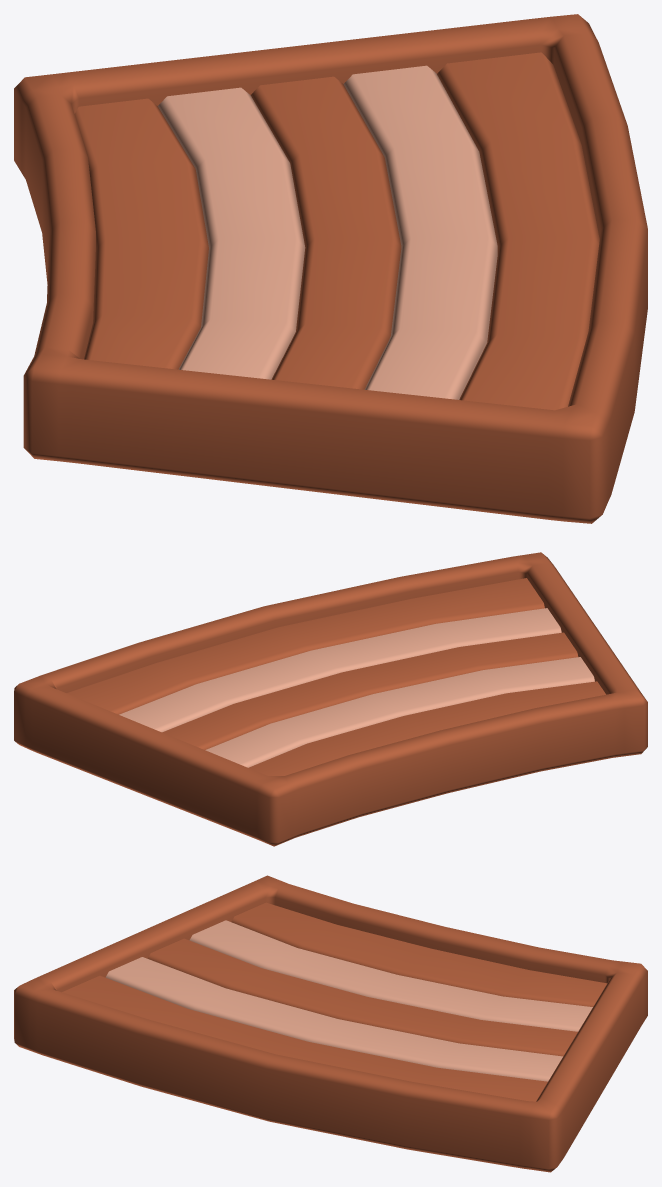
Rendered from sandal_pivot.fbx.
3 views of the same model, one above another, from view 1: azimuth 30°, elevation 25°; view 2: azimuth 150°, elevation 25°; view 3: azimuth 270°, elevation 25° (orthographic). The views are drawn at different scales.
Visible parts, largest first — view 1: group38; view 2: group38; view 3: group38.
Boxes of the visible parts, x1,y1,x2,y2 form: group38: (14,14,647,523); group38: (14,552,647,846); group38: (14,875,647,1172).
Bounding box in the file's own units: 164 × 21.14 × 183.
